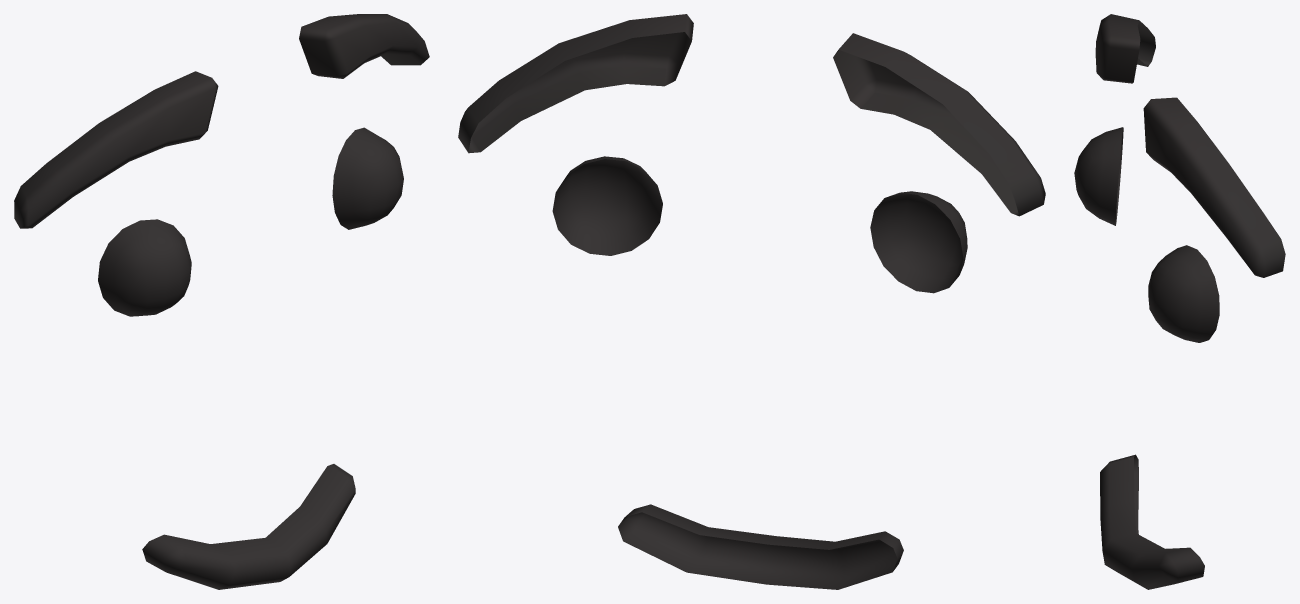
The model's file is Male_emotion_usual_001_001.glb.
3 renders of one model, left to right at view 1: azimuth 30°, elevation 25°; view 2: azimuth 150°, elevation 25°; view 3: azimuth 270°, elevation 25°, orthographic. The views are drawn at different scales.
Visible parts, largest first — view 1: Male_emotion_usual_001.001; view 2: Male_emotion_usual_001.001; view 3: Male_emotion_usual_001.001.
Boxes of the visible parts, x1,y1,x2,y2 form: Male_emotion_usual_001.001: (14, 14, 429, 589); Male_emotion_usual_001.001: (458, 14, 1045, 589); Male_emotion_usual_001.001: (1074, 14, 1285, 589).
Size of the model in its own units: 0.1331 by 0.1395 by 0.0531.
Materials: 1 (1 with a texture image).
